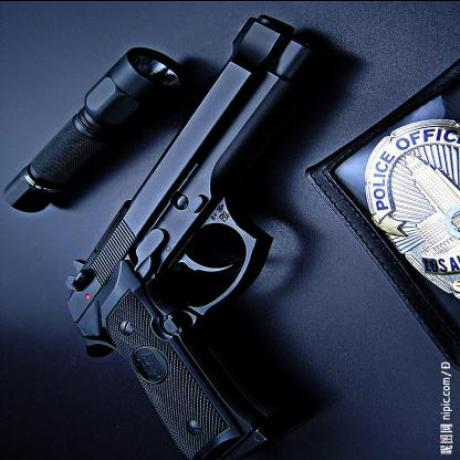weapon: (52, 11, 324, 460)
